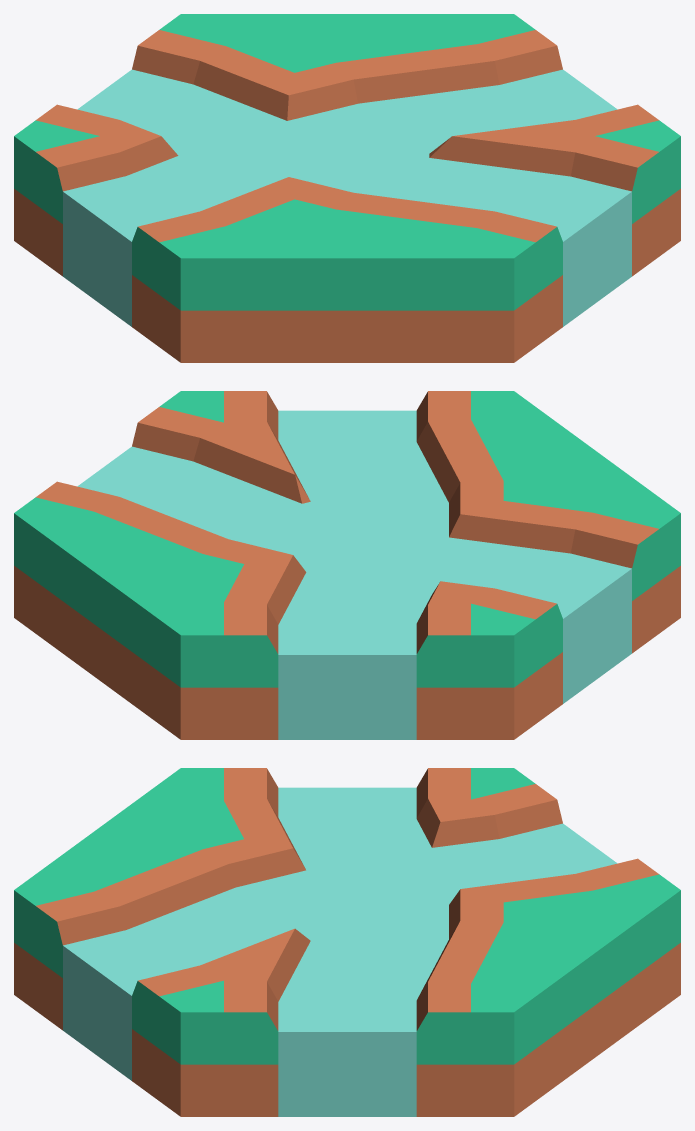
Rendered from river_intersectionE.fbx.
The picture shows the model from 3 angles, top to bottom: view 1: azimuth 30°, elevation 25°; view 2: azimuth 150°, elevation 25°; view 3: azimuth 270°, elevation 25°; orthographic projection.
Parts seen in each view (by area): view 1: river_intersectionE; view 2: river_intersectionE; view 3: river_intersectionE.
Part boxes in pixels (x1,y1,x2,y2): river_intersectionE: [14, 14, 680, 362]; river_intersectionE: [14, 391, 680, 739]; river_intersectionE: [14, 768, 680, 1116].
Size of the model in its own units: 10 by 2 by 11.55.
